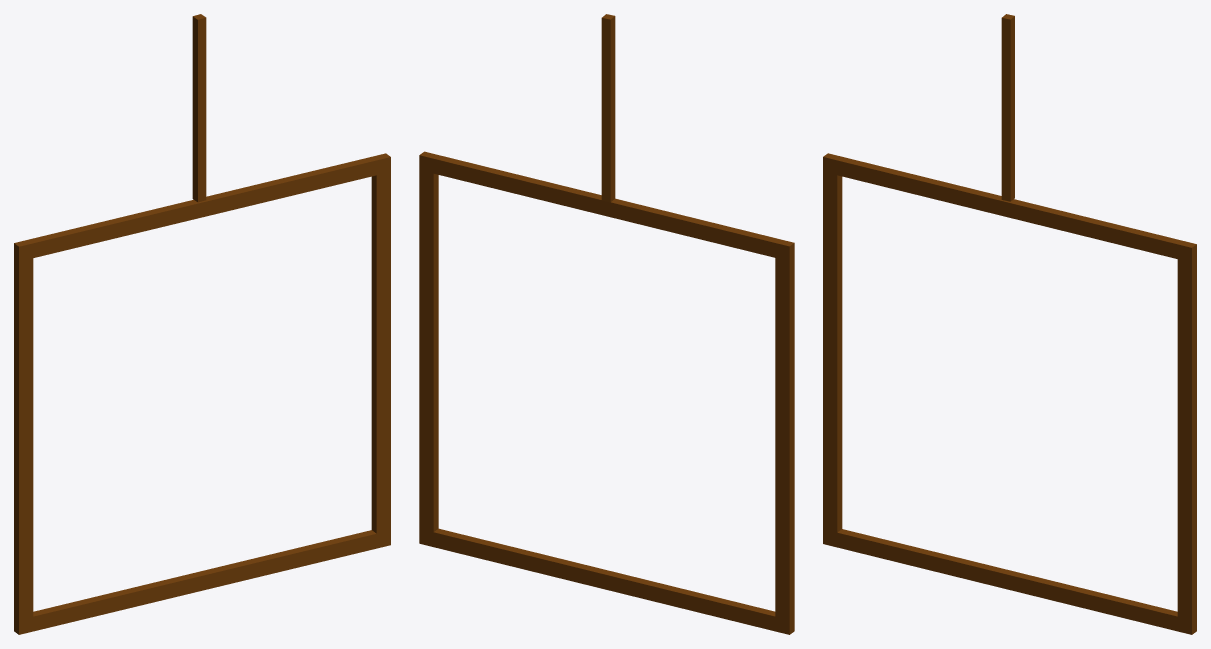
Rendered from gate2016_large.obj.
3 renders of one model, left to right at view 1: azimuth 30°, elevation 25°; view 2: azimuth 150°, elevation 25°; view 3: azimuth 330°, elevation 25°, orthographic.
Parts seen in each view (by area): view 1: POLYFACE.061, POLYFACE.059; view 2: POLYFACE.061, POLYFACE.059; view 3: POLYFACE.061, POLYFACE.059.
Boxes of the visible parts, <box> form: POLYFACE.061: <box>14,153,390,634</box>; POLYFACE.059: <box>192,14,206,202</box>; POLYFACE.061: <box>419,151,794,634</box>; POLYFACE.059: <box>601,14,615,202</box>; POLYFACE.061: <box>823,153,1196,634</box>; POLYFACE.059: <box>1001,14,1014,201</box>.
Bounding box in the file's own units: 2.15 × 3.16 × 0.0637.
